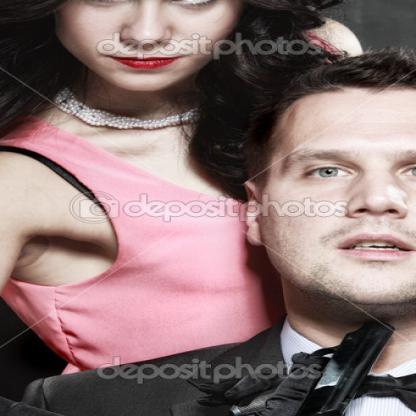gun: (201, 308, 409, 415)
